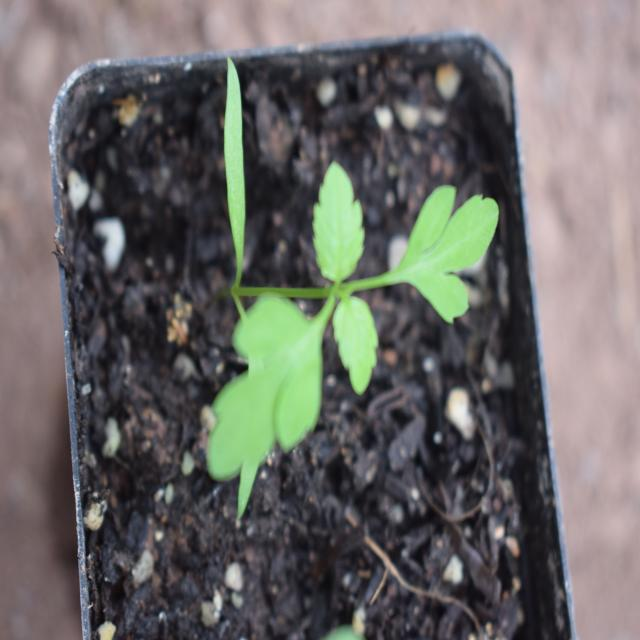Bidens pilosa: (186, 79, 497, 491)
